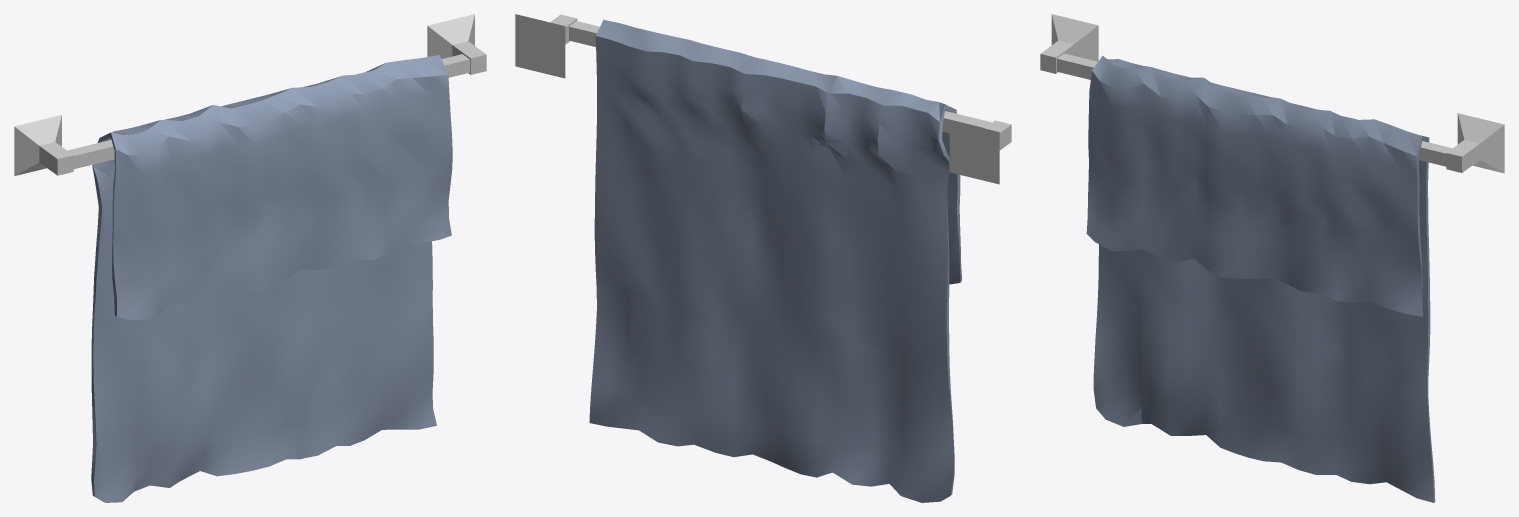
The model's file is sh_blend_swap_cc_0_towel3.glb.
3 views of the same model, side by side, from view 1: azimuth 30°, elevation 25°; view 2: azimuth 150°, elevation 25°; view 3: azimuth 330°, elevation 25° (orthographic). The views are drawn at different scales.
Bounding box in the file's own units: 0.596 × 0.478 × 0.081.
